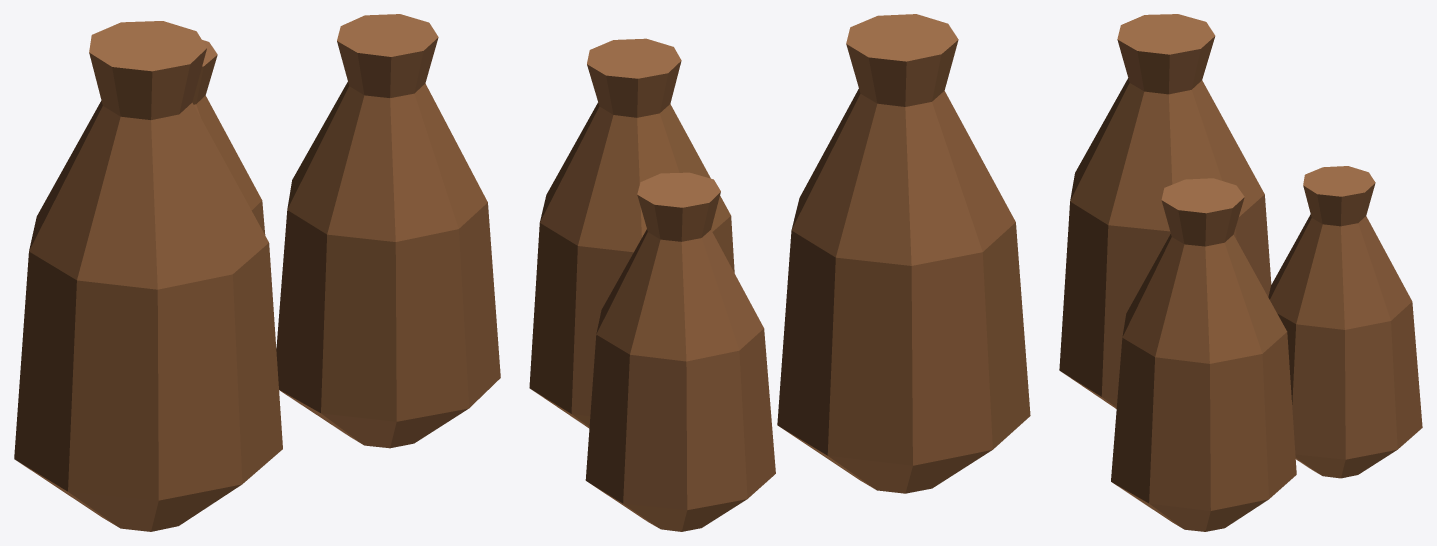
Rendered from amphorae.glb.
The picture shows the model from 3 angles, left to right: view 1: azimuth 30°, elevation 25°; view 2: azimuth 150°, elevation 25°; view 3: azimuth 270°, elevation 25°; orthographic projection. The views are drawn at different scales.
Visible parts, largest first — view 1: base; view 2: base; view 3: base.
Boxes of the visible parts, x1,y1,x2,y2 form: base: (14,14,500,531); base: (529,14,1030,531); base: (1059,14,1422,531).
Bounding box in the file's own units: 0.364 × 0.34 × 0.2942.
